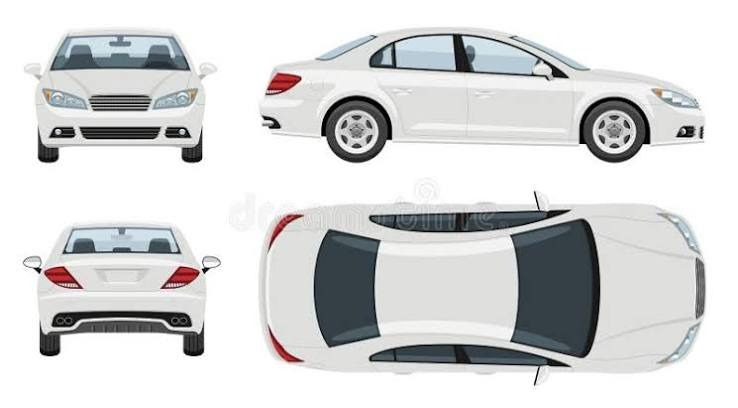car: (275, 28, 696, 164), (24, 220, 224, 354), (36, 34, 212, 157)
